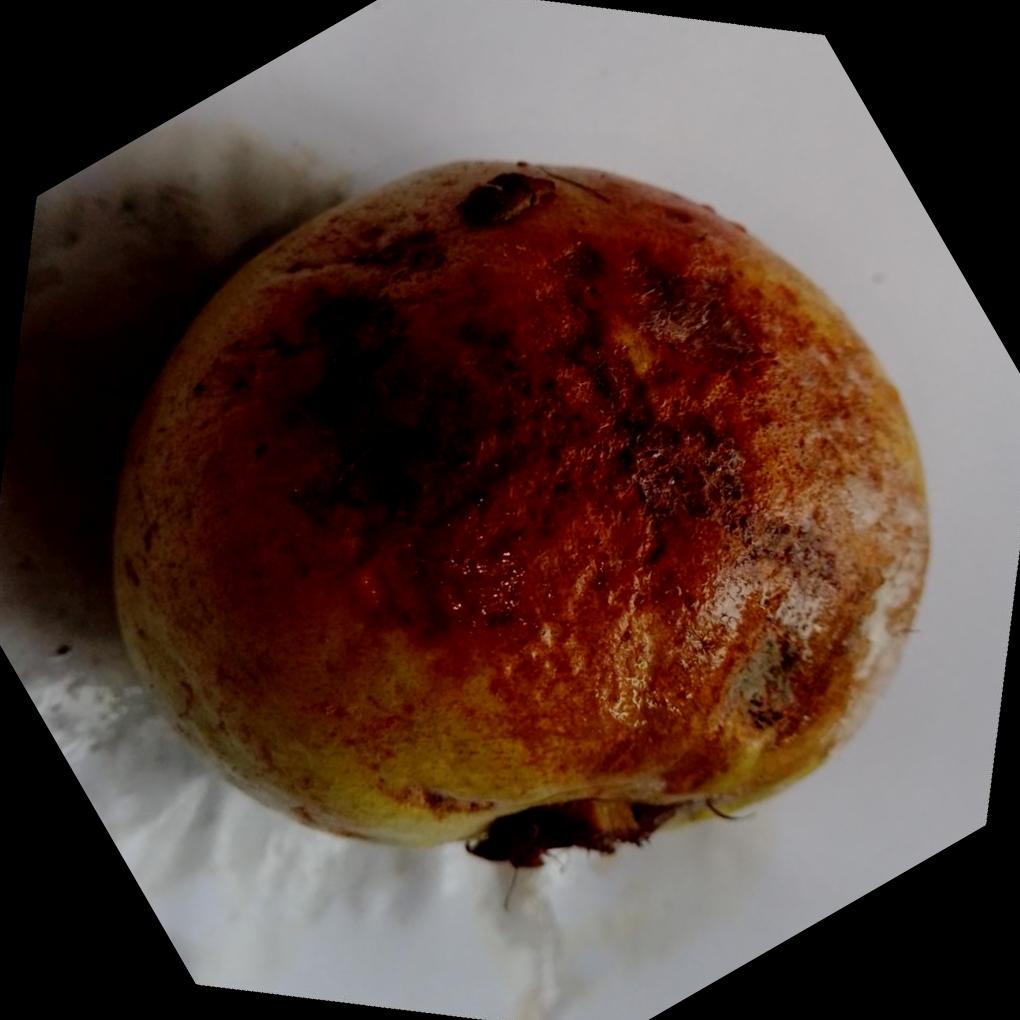FreshOrange: (104, 151, 931, 870)
